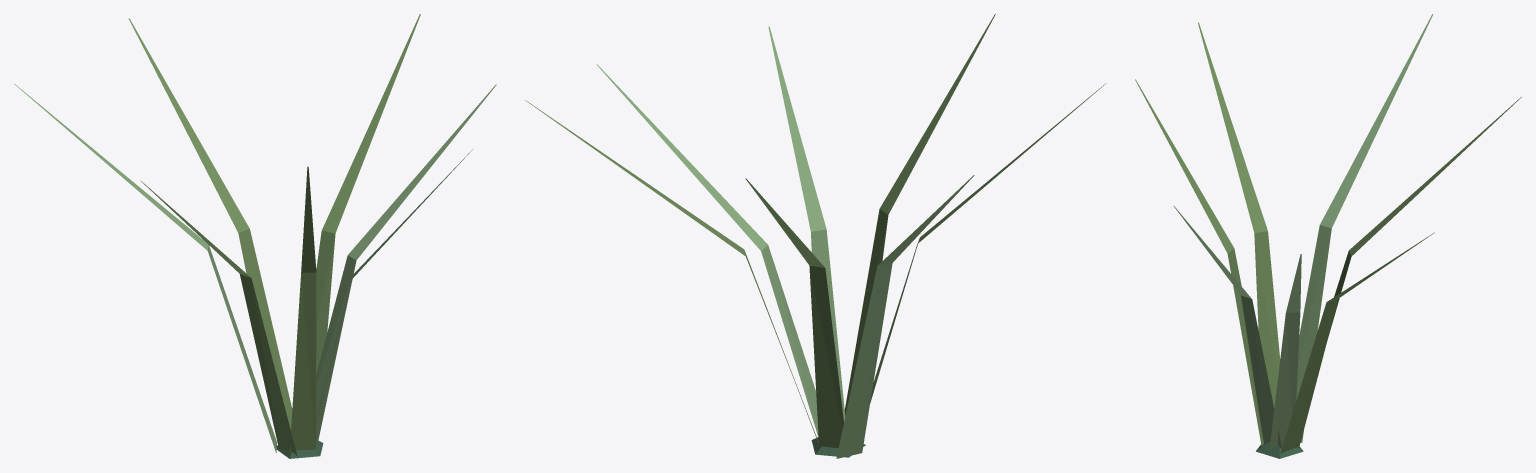
Rendered from grass_tuft.glb.
3 views of the same model, side by side, from view 1: azimuth 30°, elevation 25°; view 2: azimuth 150°, elevation 25°; view 3: azimuth 270°, elevation 25° (orthographic). The views are drawn at different scales.
Visible parts, largest first — view 1: grass_tuft; view 2: grass_tuft; view 3: grass_tuft.
Boxes of the visible parts, x1,y1,x2,y2 form: grass_tuft: [14, 14, 496, 458]; grass_tuft: [525, 14, 1105, 458]; grass_tuft: [1135, 14, 1521, 458].
Size of the model in its own units: 0.4653 by 0.3832 by 0.3966.
